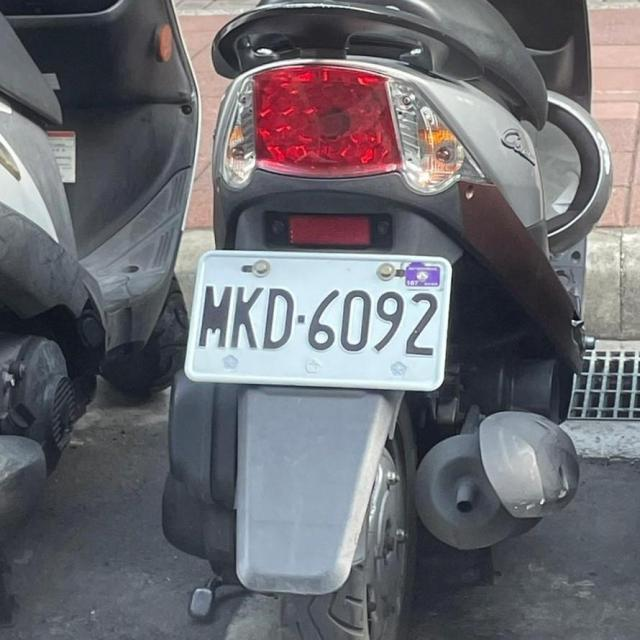W: (181, 245, 454, 392)
